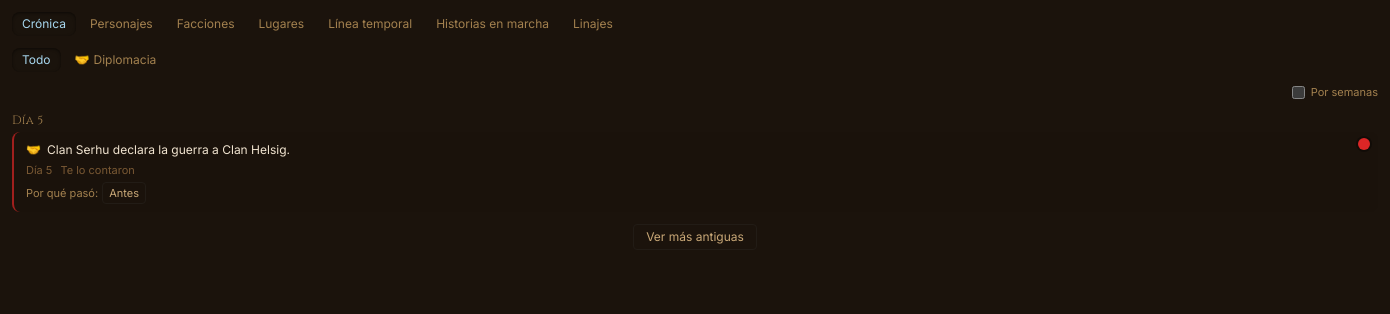
Test: LeyendasPanel › «Ver más antiguas» pide la página siguiente con el cursor y la añade
Click the button "Ver más antiguas" at (695, 236), box [633,224,757,250]
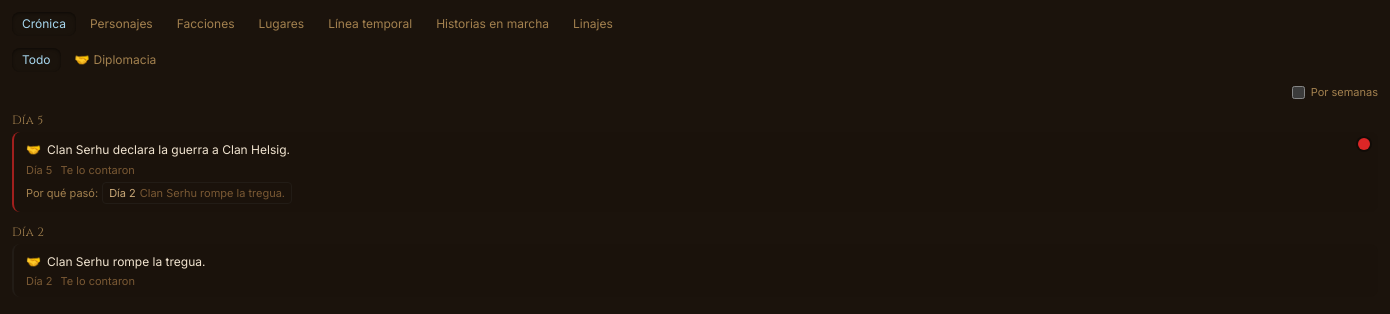
Expected: the element "Día 5" is shown, [12,112,1378,212]
Result: the element "Día 2" is shown at [12,224,1378,297]
Result: the button "Ver más antiguas" is gone
